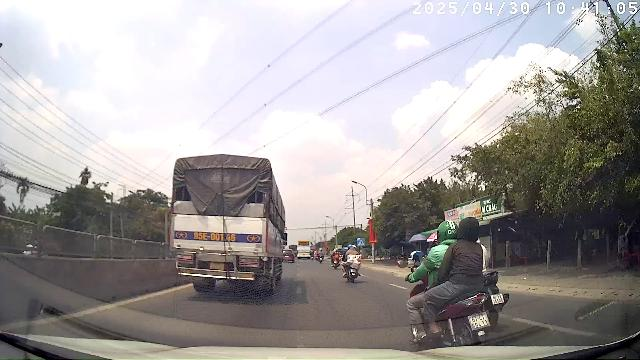423a-duong-nguoi-di-bo-sang-ngang-1: (357, 238, 365, 246)
